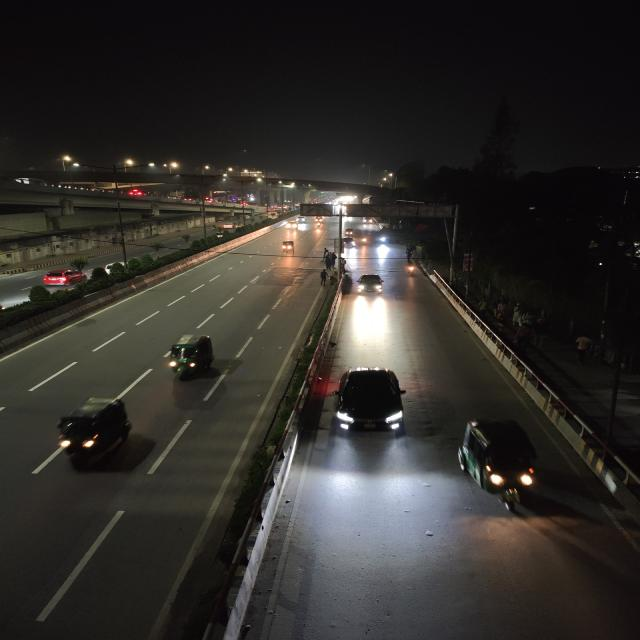car: (329, 363, 413, 438), (41, 268, 91, 288), (355, 271, 387, 297), (221, 220, 236, 230), (284, 221, 298, 230), (265, 210, 278, 218)
cng: (452, 414, 544, 514), (46, 392, 143, 472), (160, 330, 222, 384), (278, 238, 297, 255), (340, 237, 356, 250), (341, 227, 356, 239)
motorcycle: (404, 258, 418, 278)
pedestrian: (315, 268, 331, 287), (404, 250, 412, 264)
